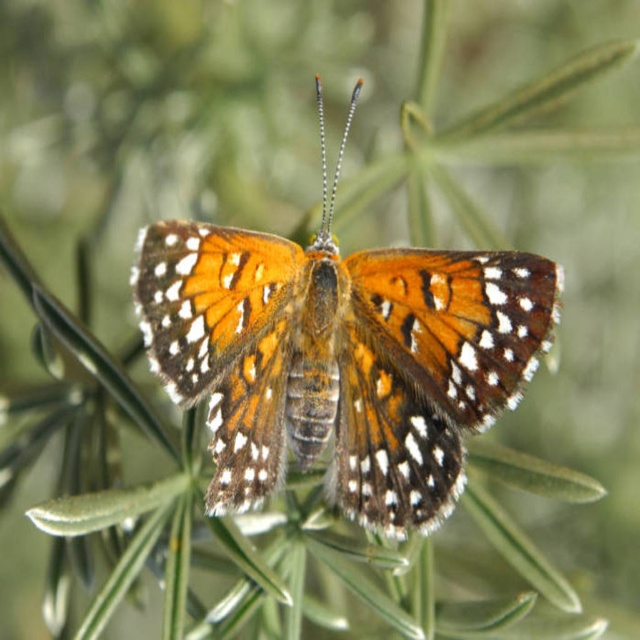Butterfly: (129, 78, 567, 551)
